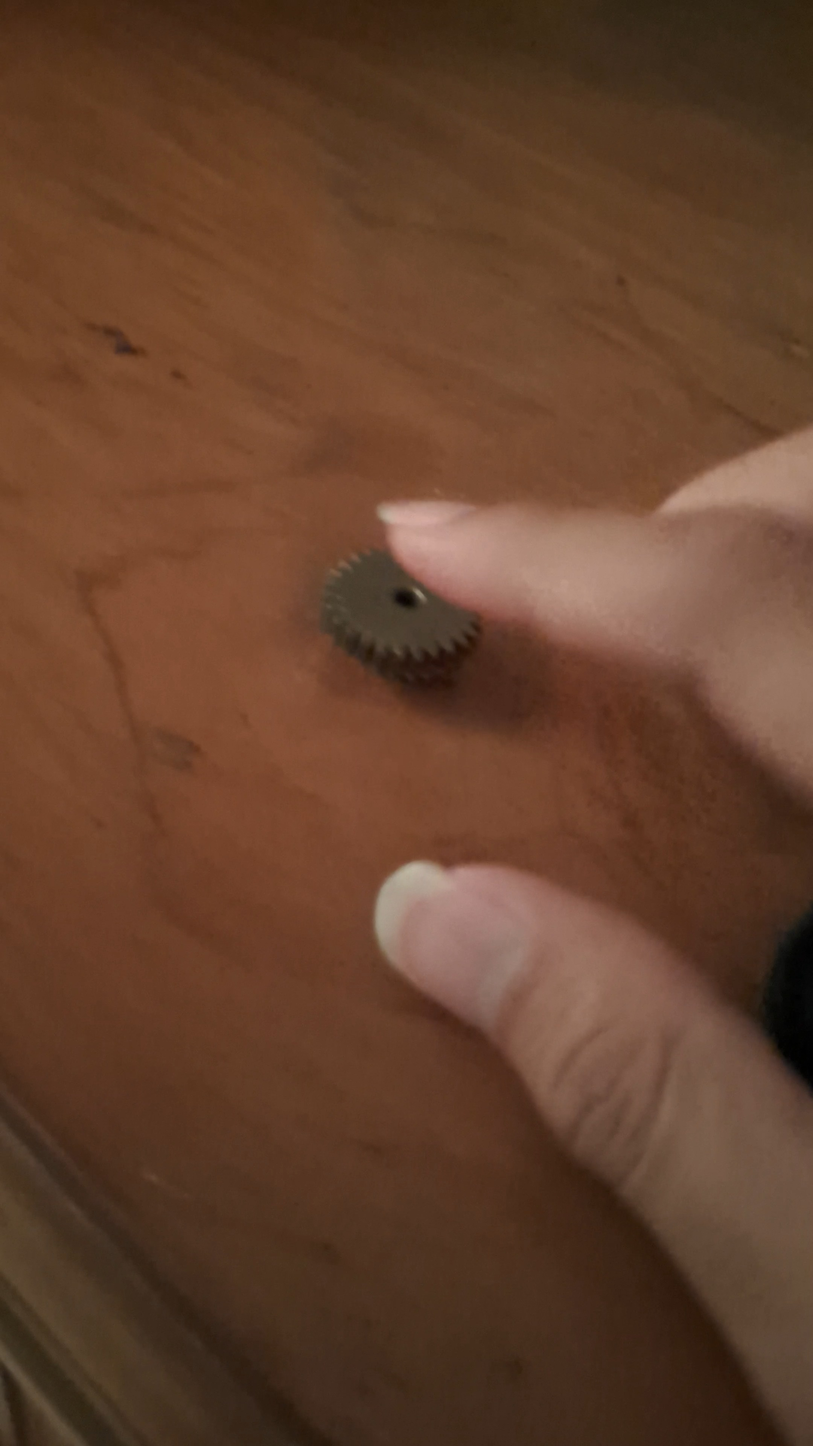spur gear: (321, 550, 480, 683)
